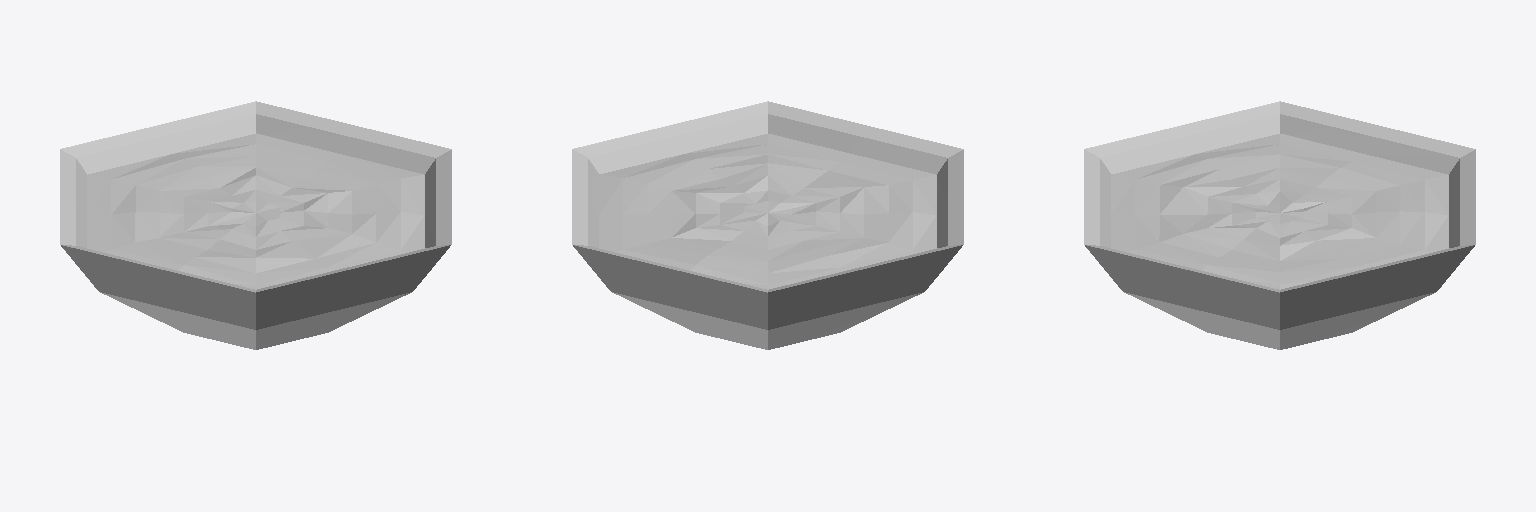
Rendered from braciere.obj.
3 views of the same model, side by side, from view 1: azimuth 30°, elevation 25°; view 2: azimuth 150°, elevation 25°; view 3: azimuth 270°, elevation 25° (orthographic).
Parts seen in each view (by area): view 1: PiattoFuoco002; view 2: PiattoFuoco002; view 3: PiattoFuoco002.
Part boxes in pixels (x1,y1,x2,y2): PiattoFuoco002: (60, 101, 451, 349); PiattoFuoco002: (572, 101, 963, 349); PiattoFuoco002: (1084, 101, 1475, 349).
Bounding box in the file's own units: 0.5063 × 0.1458 × 0.4387.